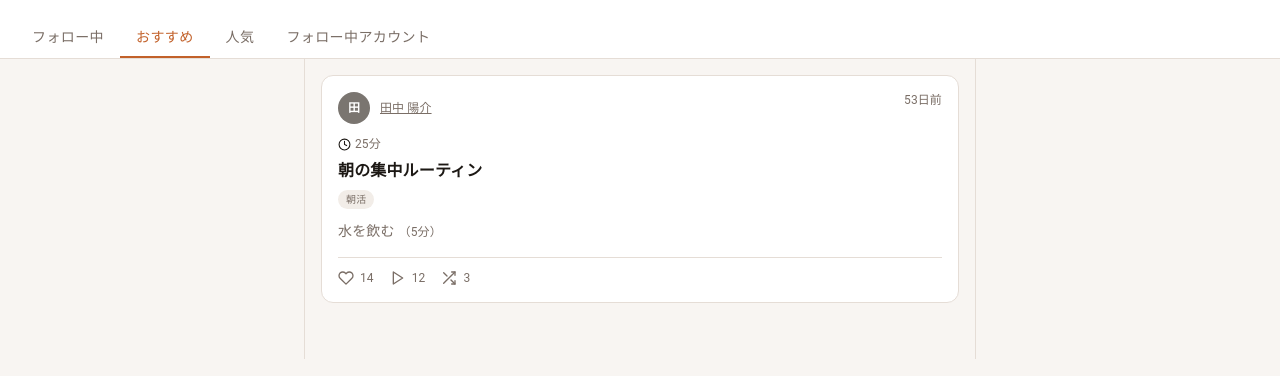
Scenario: RoutineFeedPage › いいね成功時にカードの状態と件数を更新する
Check: the heading "朝の集中ルーティン" is shown, box [338,161,482,180]
Click the button named "いいねする": (356,278) [338,270,374,286]
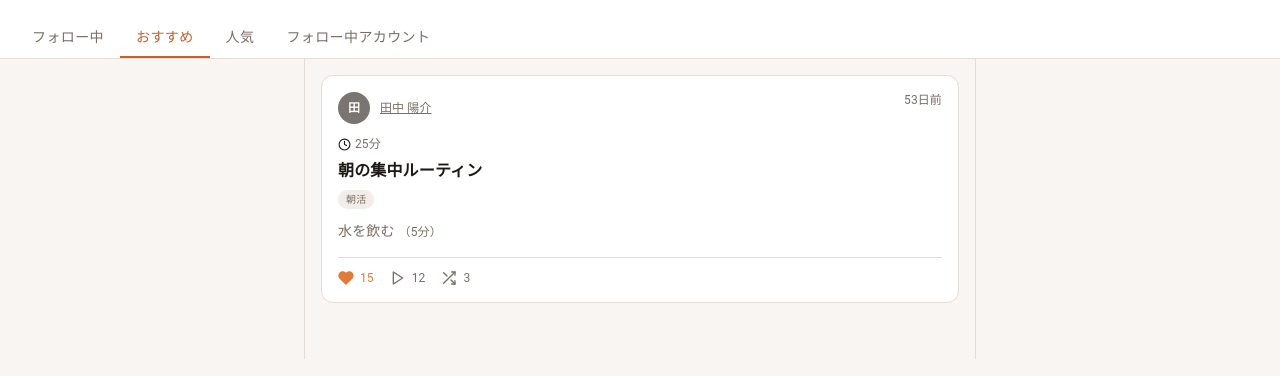
Check: the button named "いいねを取り消す" reads "15"
Click the button named "いいねを取り消す": (356,278) [338,270,374,286]
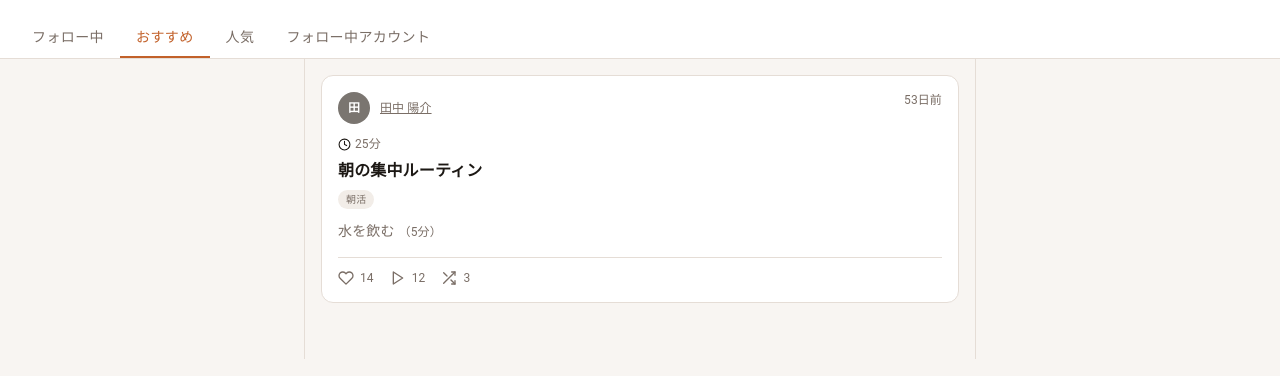
Check: the button named "いいねする" reads "14", box [338,270,374,286]
